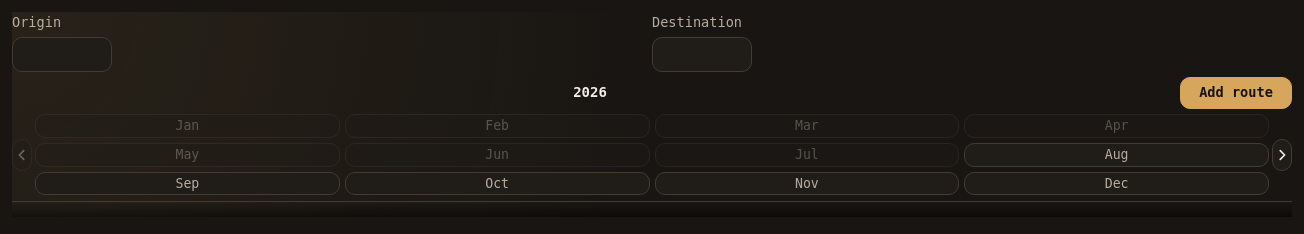
RouteList › moves through only the departure years offered by the collection horizon
Expected: the button named "Previous departure year" is disabled, [12, 139, 32, 171]
What coordinates should you click on to do the following:
click the button named "Next departure year"
I would click on:
 (1282, 155)
Its box is [1272, 139, 1292, 171].
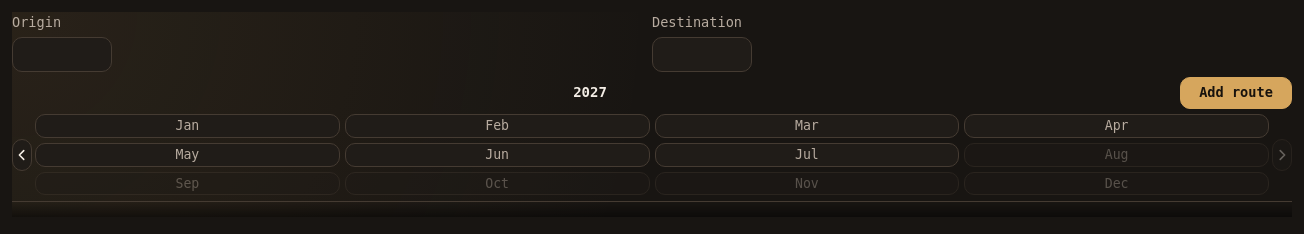
Expected: the text "2027" is shown, [573, 84, 607, 100]
Expected: the button with aria-label "January 2027" is shown, [35, 114, 340, 138]
Expected: the button named "Previous departure year" is enabled
What coordinates should you click on to do the following:
click the button named "Previous departure year"
I would click on:
 (22, 155)
Its box is [12, 139, 32, 171].
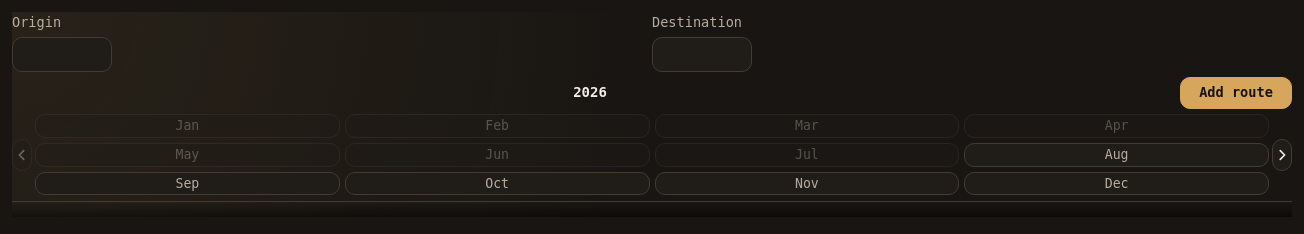
Expected: the text "2026" is shown, [573, 84, 607, 100]
